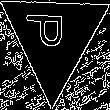P_E: (31, 19, 77, 57)
